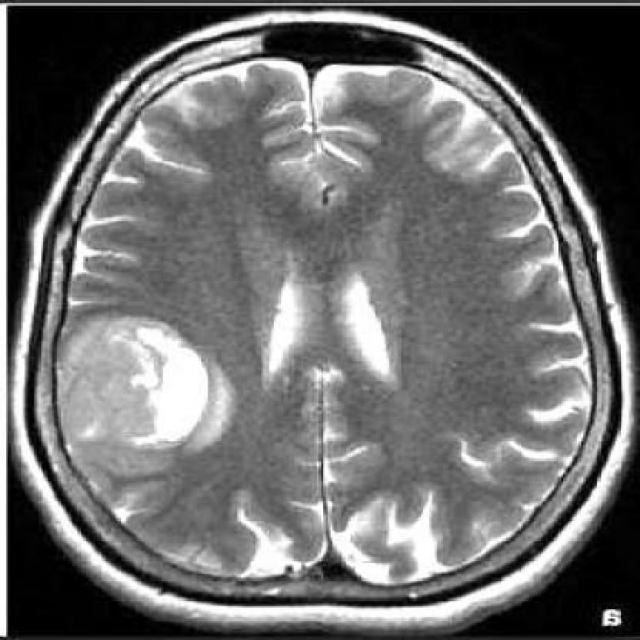Brain-Tumor: (50, 302, 236, 461)
